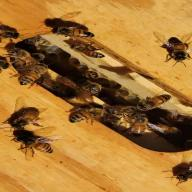Bee: (151, 30, 192, 70), (68, 101, 111, 134), (50, 19, 106, 39), (7, 132, 57, 154), (16, 62, 47, 94), (8, 104, 48, 127)
